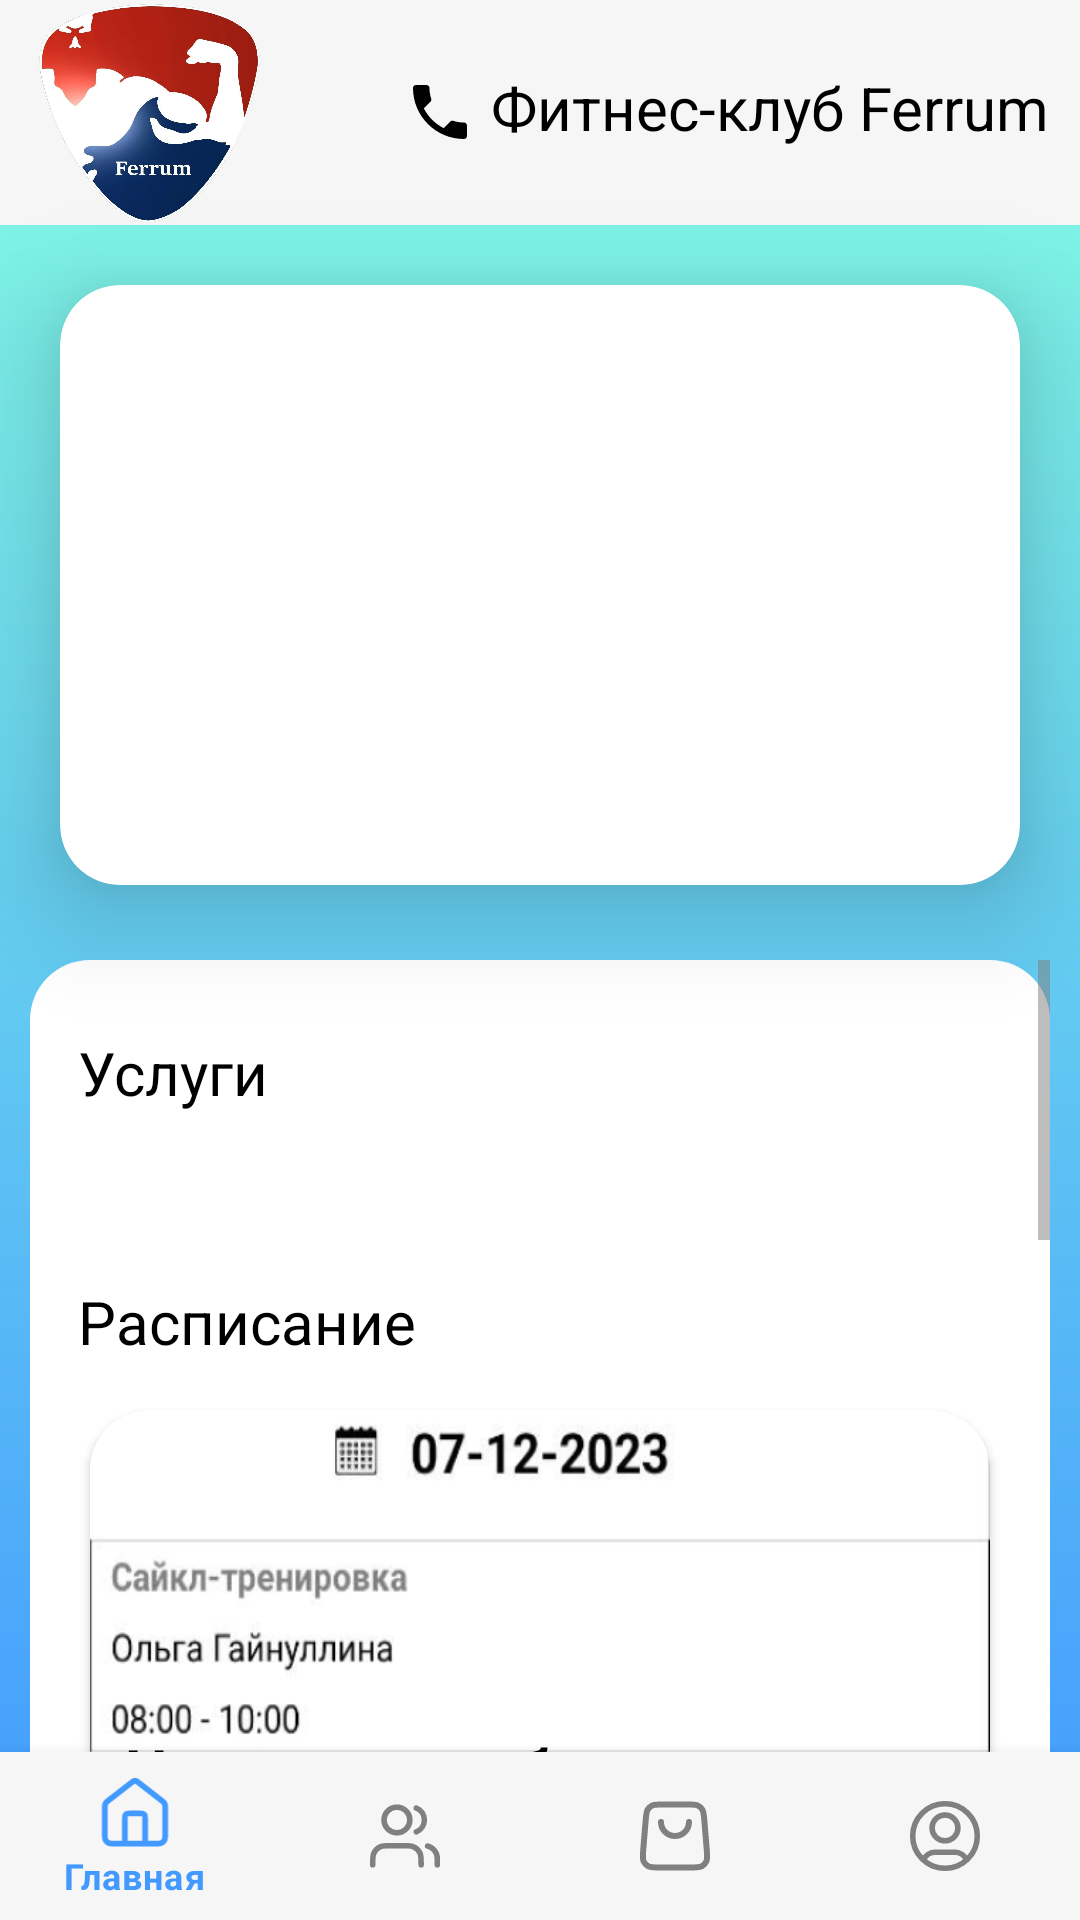

Where to tap for icons on this 1080px x 1920px app screen, as [x,y]:
phone: [440,112]
